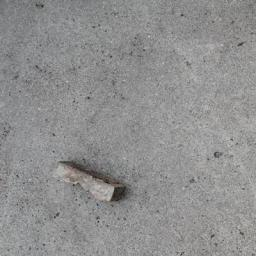FOD: (52, 160, 127, 205)
